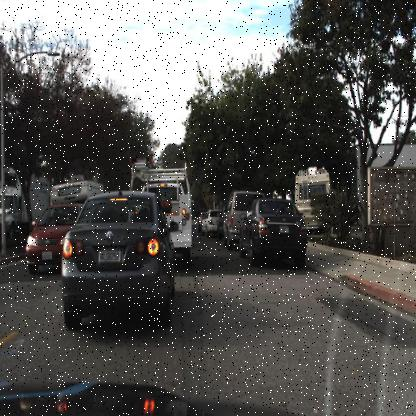car: (61, 194, 173, 324), (236, 196, 307, 264), (18, 201, 77, 282), (23, 198, 82, 276), (162, 158, 198, 270), (47, 174, 107, 223), (294, 167, 330, 229), (222, 192, 261, 245), (220, 186, 240, 252), (199, 206, 220, 234)
truck: (140, 171, 192, 257), (283, 158, 332, 237), (0, 167, 51, 231), (57, 181, 90, 236)
